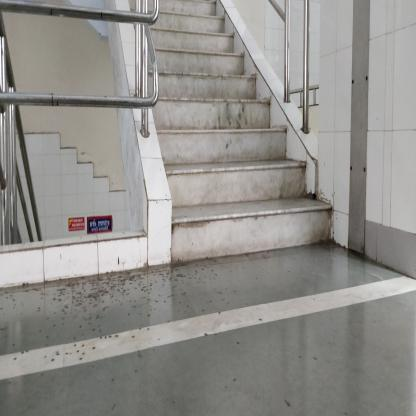stairs: (175, 82, 255, 269)
